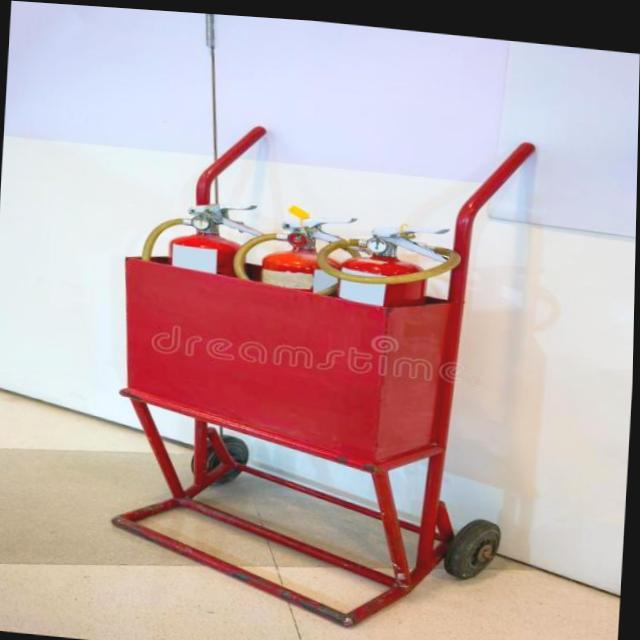FireExtinguisher: (300, 205, 472, 452), (221, 197, 366, 425), (130, 186, 274, 407)
